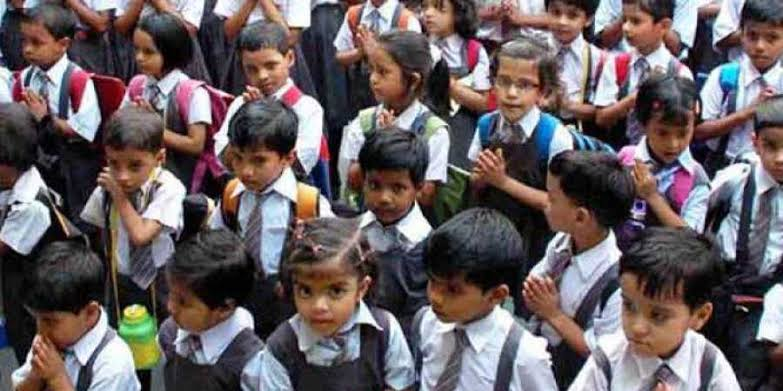student: (620, 234, 726, 360), (427, 209, 524, 320), (285, 220, 363, 335), (19, 244, 111, 341), (159, 231, 254, 323), (634, 75, 704, 170), (547, 148, 614, 244), (222, 99, 291, 191), (357, 129, 423, 221), (100, 106, 162, 198), (494, 32, 550, 120), (366, 34, 431, 107), (127, 12, 198, 77), (14, 11, 88, 68), (240, 33, 299, 91), (743, 96, 783, 172), (740, 5, 783, 70), (544, 2, 604, 41), (1, 99, 32, 169), (622, 4, 664, 52), (421, 1, 465, 36)
